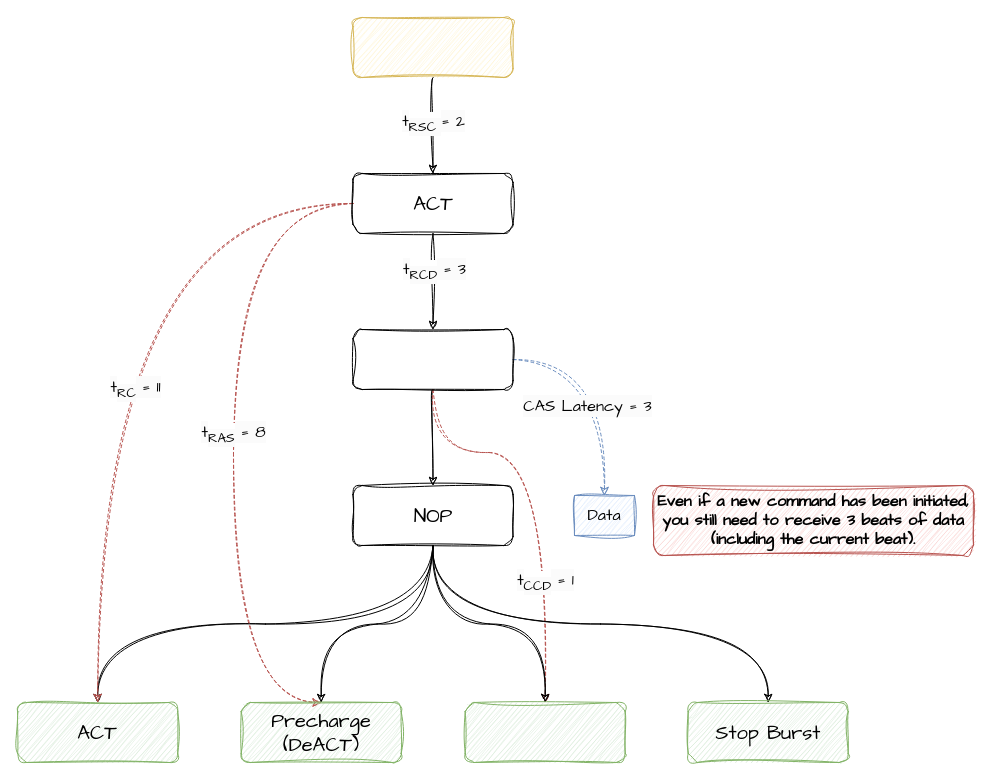
The diagram is 991 pixels wide and 780 high, and some of its shapes have lost their labels. Each missing label, with the centre of its shape:
Another Burst: point (544, 732)
Burst Read: point (432, 359)
Mode Set: point (432, 47)
